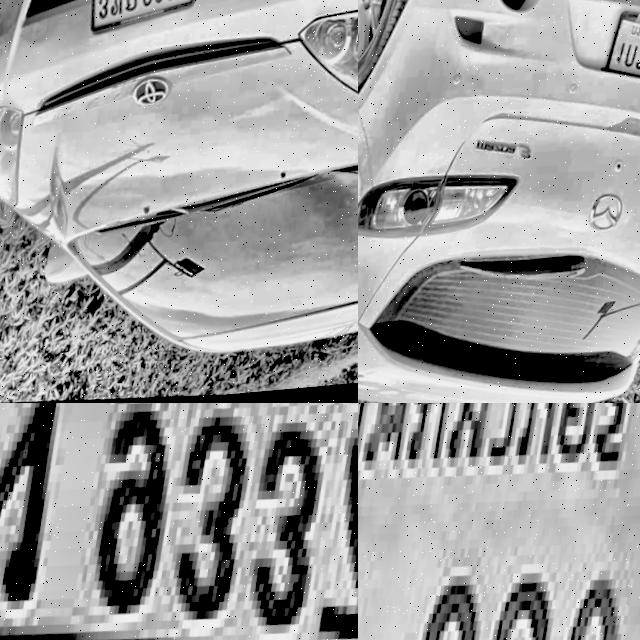license-plate: (0, 403, 358, 640), (358, 403, 640, 640), (86, 0, 211, 42), (605, 11, 640, 108)
